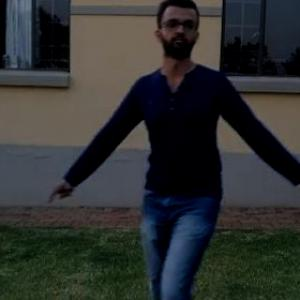land: (16, 0, 297, 299)
